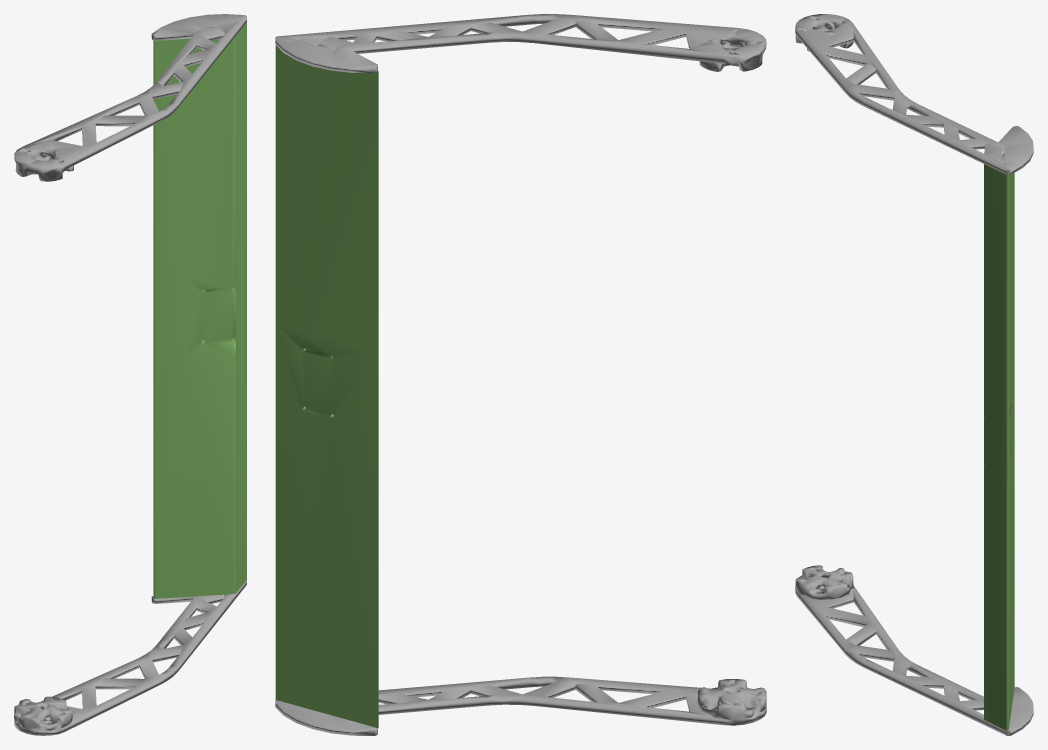
3 views of the same model, side by side, from view 1: azimuth 30°, elevation 25°; view 2: azimuth 150°, elevation 25°; view 3: azimuth 270°, elevation 25° (orthographic). The views are drawn at different scales.
Size of the model in its own units: 0.2014 by 0.3407 by 0.1301.
